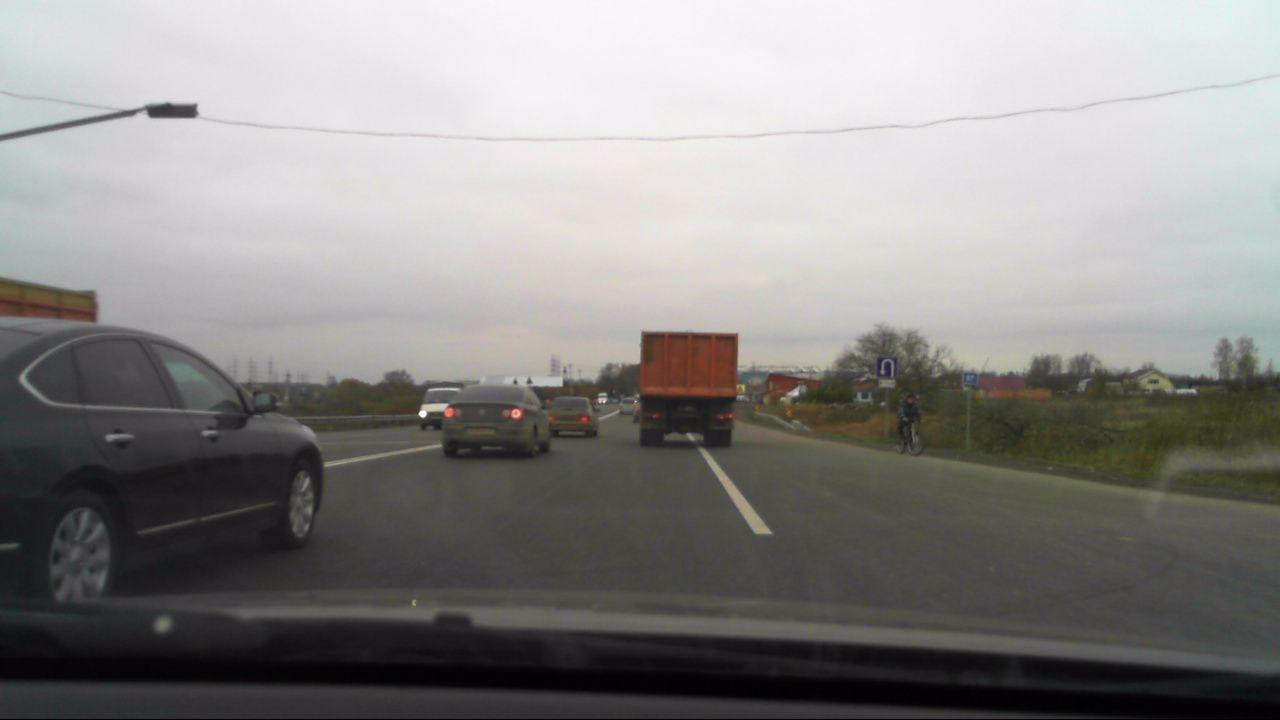6_3_1: (877, 356, 897, 378)
